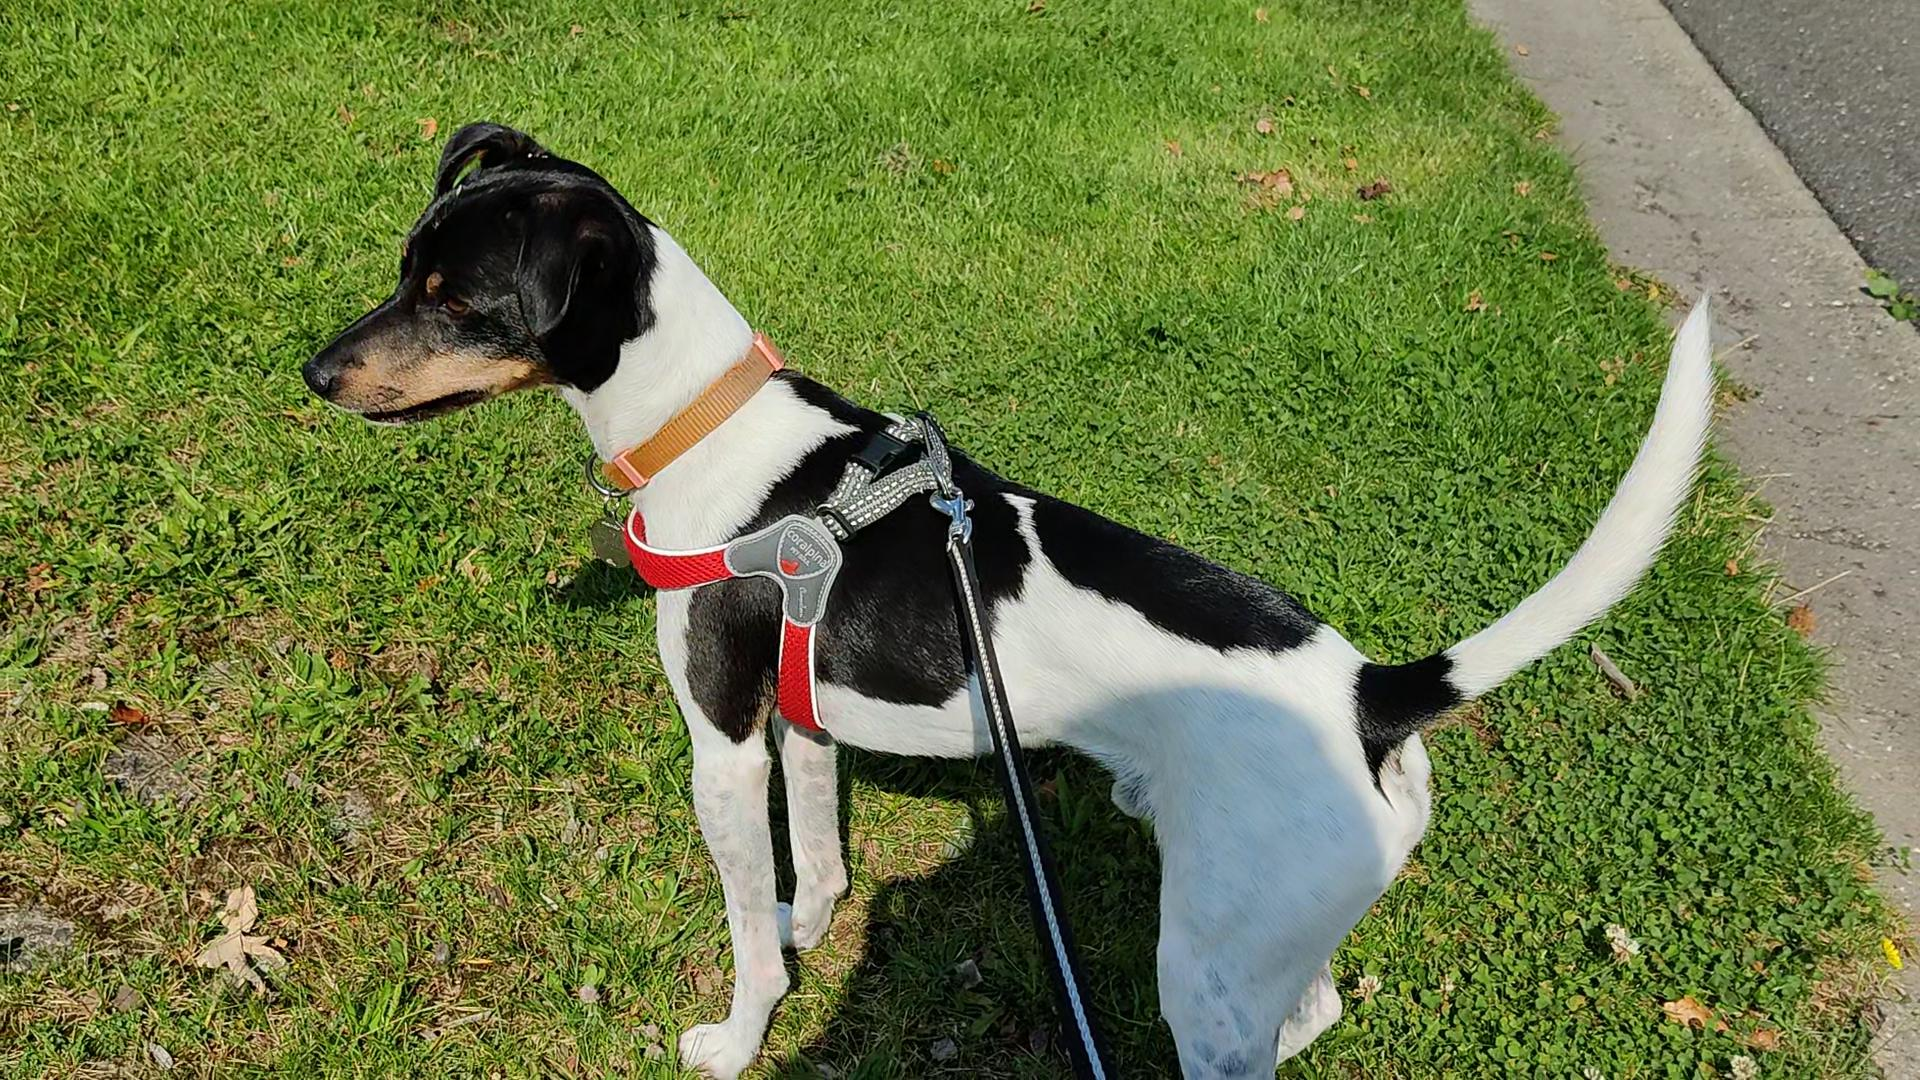Dog: (286, 98, 1724, 1079)
